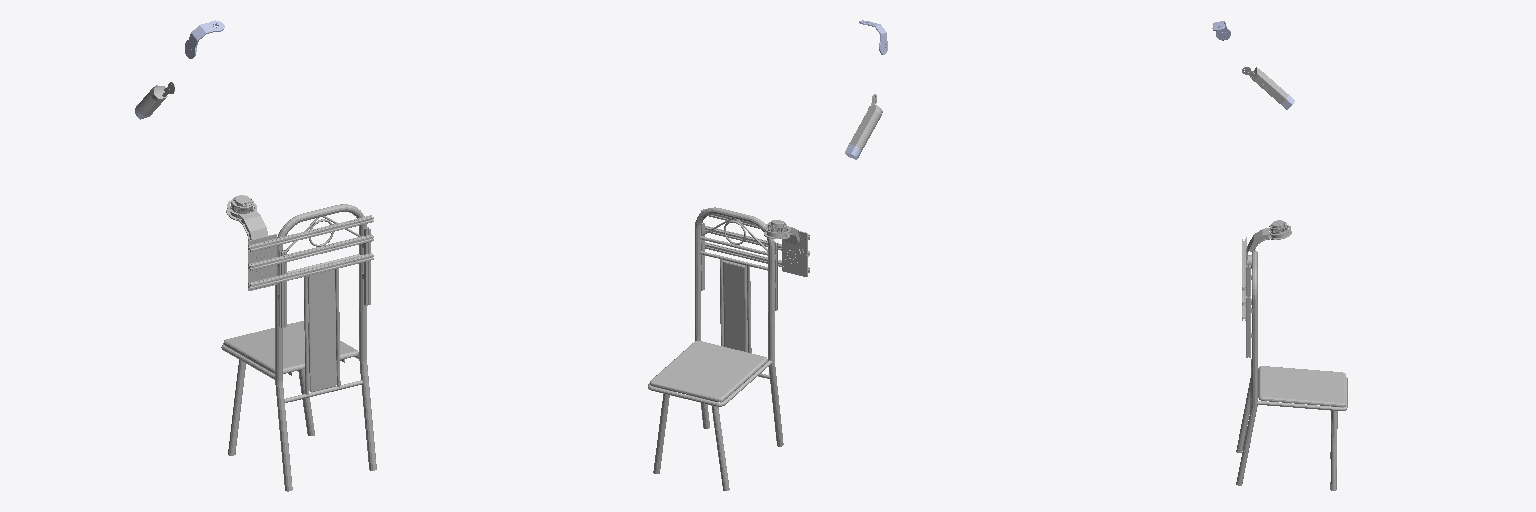
URDF robot description (rehab_robot_ver2):
<?xml version="1.0" encoding="utf-8"?>
<!-- This URDF was automatically created by SolidWorks to URDF Exporter! Originally created by Stephen Brawner (brawner@gmail.com) 
     Commit Version: 1.6.0-4-g7f85cfe  Build Version: 1.6.7995.38578
     For more information, please see http://wiki.ros.org/sw_urdf_exporter -->
<robot
  name="rehab_robot_ver2">
  <link
    name="base_link">
    <inertial>
      <origin
        xyz="-0.022854 -0.1085 0.53799"
        rpy="0 0 0" />
      <mass
        value="6.6731" />
      <inertia
        ixx="0.29283"
        ixy="-1.6968E-05"
        ixz="2.2985E-05"
        iyy="0.3103"
        iyz="0.035763"
        izz="0.1624" />
    </inertial>
    <visual>
      <origin
        xyz="0 0 0"
        rpy="0 0 0" />
      <geometry>
        <mesh
          filename="../meshes/base_link.STL" />
      </geometry>
      <material
        name="">
        <color
          rgba="0.75294 0.75294 0.75294 1" />
      </material>
    </visual>
    <collision>
      <origin
        xyz="0 0 0"
        rpy="0 0 0" />
      <geometry>
        <mesh
          filename="../meshes/base_link.STL" />
      </geometry>
    </collision>
  </link>
  <link
    name="shoulder_link">
    <inertial>
      <origin
        xyz="-0.060369 -1.7931E-12 -0.036849"
        rpy="0 0 0" />
      <mass
        value="0.06547" />
      <inertia
        ixx="0.00010552"
        ixy="5.2801E-21"
        ixz="-7.374E-05"
        iyy="0.00018777"
        iyz="3.2187E-20"
        izz="0.0001159" />
    </inertial>
    <visual>
      <origin
        xyz="0 0 0"
        rpy="0 0 0" />
      <geometry>
        <mesh
          filename="../meshes/shoulder_link.STL" />
      </geometry>
      <material
        name="">
        <color
          rgba="0.79216 0.81961 0.93333 1" />
      </material>
    </visual>
    <collision>
      <origin
        xyz="0 0 0"
        rpy="0 0 0" />
      <geometry>
        <mesh
          filename="../meshes/shoulder_link.STL" />
      </geometry>
    </collision>
  </link>
  <joint
    name="base_joint"
    type="revolute">
    <origin
      xyz="-0.26475 -0.15642 1.0553"
      rpy="0.2618 0 0" />
    <parent
      link="base_link" />
    <child
      link="shoulder_link" />
    <axis
      xyz="0 0 1" />
    <limit
      lower="-1.57"
      upper="0"
      effort="0"
      velocity="0" />
  </joint>
  <link
    name="upper_arm_link">
    <inertial>
      <origin
        xyz="-0.079145 0.008564 0.015419"
        rpy="0 0 0" />
      <mass
        value="1.5832" />
      <inertia
        ixx="0.0019452"
        ixy="0.0004682"
        ixz="-0.00022867"
        iyy="0.0033308"
        iyz="1.8435E-05"
        izz="0.0048906" />
    </inertial>
    <visual>
      <origin
        xyz="0 0 0"
        rpy="0 0 0" />
      <geometry>
        <mesh
          filename="../meshes/upper_arm_link.STL" />
      </geometry>
      <material
        name="">
        <color
          rgba="0.75294 0.75294 0.75294 1" />
      </material>
    </visual>
    <collision>
      <origin
        xyz="0 0 0"
        rpy="0 0 0" />
      <geometry>
        <mesh
          filename="../meshes/upper_arm_link.STL" />
      </geometry>
    </collision>
  </link>
  <joint
    name="shoulder_joint"
    type="revolute">
    <origin
      xyz="-0.098298 0 -0.082481"
      rpy="0 -1.3963 0" />
    <parent
      link="shoulder_link" />
    <child
      link="upper_arm_link" />
    <axis
      xyz="0 0 1" />
    <limit
      lower="-1.57"
      upper="0.52"
      effort="0"
      velocity="0" />
  </joint>
  <link
    name="lower_arm_link">
    <inertial>
      <origin
        xyz="-0.12194 0.00020078 -0.0040585"
        rpy="0 0 0" />
      <mass
        value="0.18858" />
      <inertia
        ixx="8.9494E-05"
        ixy="1.6186E-06"
        ixz="-0.00013362"
        iyy="0.00063311"
        iyz="5.6467E-07"
        izz="0.0006346" />
    </inertial>
    <visual>
      <origin
        xyz="0 0 0"
        rpy="0 0 0" />
      <geometry>
        <mesh
          filename="../meshes/lower_arm_link.STL" />
      </geometry>
      <material
        name="">
        <color
          rgba="0.75294 0.75294 0.75294 1" />
      </material>
    </visual>
    <collision>
      <origin
        xyz="0 0 0"
        rpy="0 0 0" />
      <geometry>
        <mesh
          filename="../meshes/lower_arm_link.STL" />
      </geometry>
    </collision>
  </link>
  <joint
    name="elbow_joint"
    type="revolute">
    <origin
      xyz="-0.21365 0.052456 -0.021"
      rpy="0 0 -0.59619" />
    <parent
      link="upper_arm_link" />
    <child
      link="lower_arm_link" />
    <axis
      xyz="0 0 -1" />
    <limit
      lower="0"
      upper="1.57"
      effort="0"
      velocity="0" />
  </joint>
  <link
    name="end_effector">
    <inertial>
      <origin
        xyz="5.5511E-17 0.0057075 0.018727"
        rpy="0 0 0" />
      <mass
        value="0.08604" />
      <inertia
        ixx="2.9211E-05"
        ixy="1.2917E-20"
        ixz="1.6941E-21"
        iyy="2.7277E-05"
        iyz="7.159E-08"
        izz="3.5412E-05" />
    </inertial>
    <visual>
      <origin
        xyz="0 0 0"
        rpy="0 0 0" />
      <geometry>
        <mesh
          filename="../meshes/end_effector.STL" />
      </geometry>
      <material
        name="">
        <color
          rgba="0.79216 0.81961 0.93333 1" />
      </material>
    </visual>
    <collision>
      <origin
        xyz="0 0 0"
        rpy="0 0 0" />
      <geometry>
        <mesh
          filename="../meshes/end_effector.STL" />
      </geometry>
    </collision>
  </link>
  <joint
    name="wrist_joint"
    type="fixed">
    <origin
      xyz="-0.26313 0 -0.040415"
      rpy="1.309 0 1.5708" />
    <parent
      link="lower_arm_link" />
    <child
      link="end_effector" />
    <axis
      xyz="0 0 0" />
  </joint>
</robot>

--- What the picture shows (computed from the rendered views, not written in the file) ---
Views: 3 orthographic renders of the robot side by side, from view 1: azimuth 30°, elevation 25°; view 2: azimuth 150°, elevation 25°; view 3: azimuth 270°, elevation 25°.
Model rehab_robot_ver2 with 5 links and 4 joints (3 revolute, 1 fixed), rooted at base_link, posed all joints at 0.
Links seen in each view (by area): view 1: base_link, lower_arm_link, shoulder_link; view 2: base_link, lower_arm_link; view 3: base_link, lower_arm_link.
Link boxes in pixels (x1,y1,x2,y2): base_link: [221, 195, 376, 491]; lower_arm_link: [138, 82, 174, 115]; shoulder_link: [185, 20, 224, 58]; base_link: [648, 207, 809, 490]; lower_arm_link: [849, 94, 882, 149]; base_link: [1236, 220, 1347, 490]; lower_arm_link: [1242, 67, 1288, 103].
Size in the robot's own frame: 0.8895 by 0.615 by 2.01 metres.
4 mesh visuals loaded from 5 distinct referenced files (4 binary STL); not drawn: 1 (reference not matched to a file when rendering).
